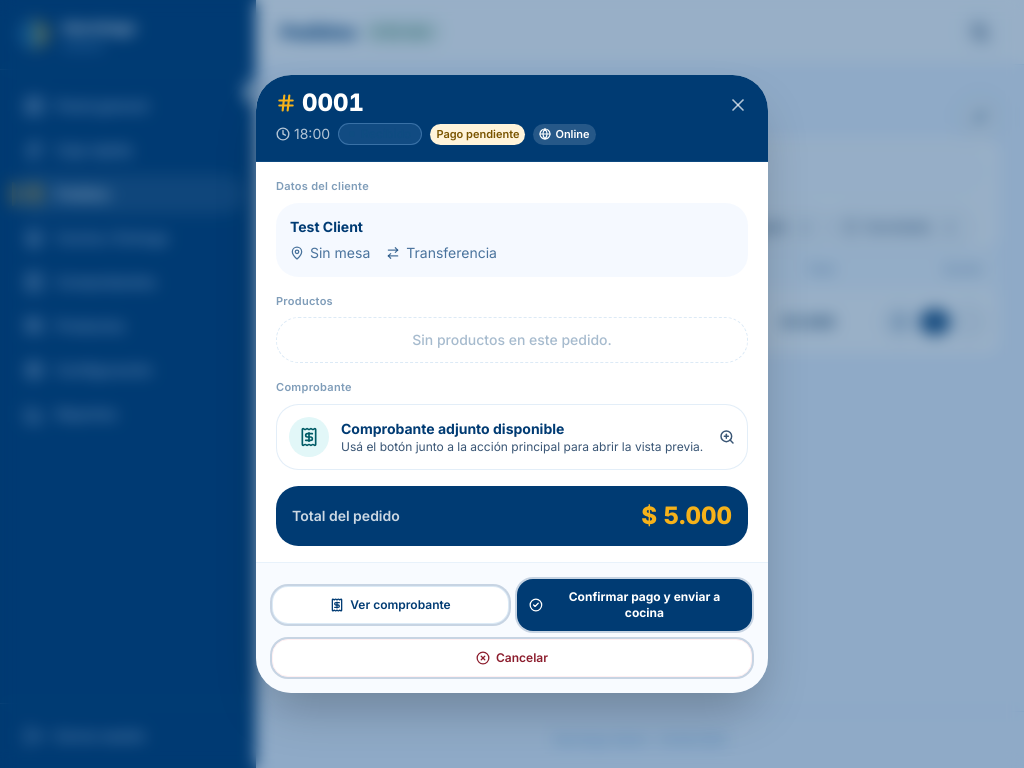
Test: OrdersScreen › Comprobante view in detail modal › opens comprobante image modal when clicking "Ver comprobante adjunto" button
Earlier steps of the test are not shown.
Click the button with aria-label "ver comprobante adjunto" at [390, 605], box left=272, top=586, right=509, bottom=624
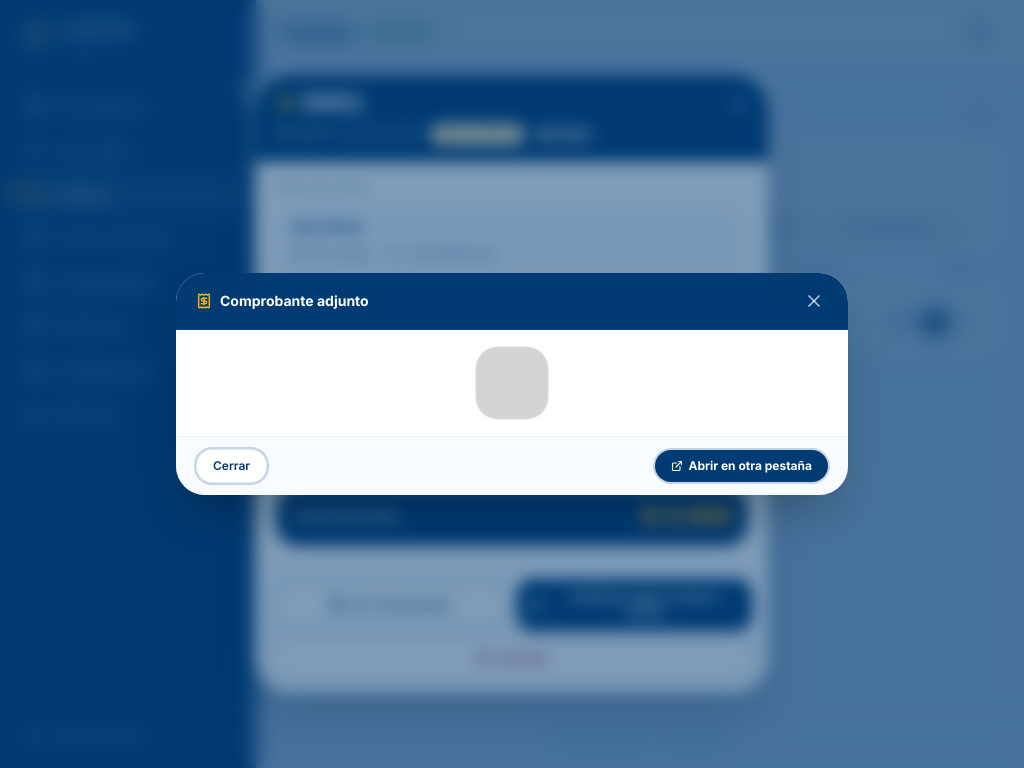
Expected: the heading "Comprobante adjunto" is shown, left=220, top=291, right=369, bottom=311
